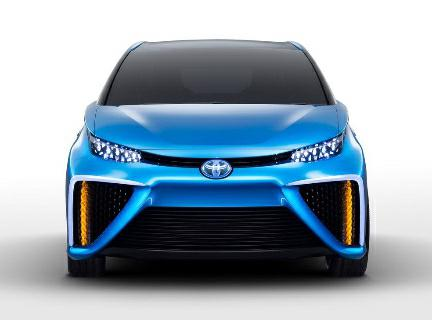丰田-FCV: (56, 30, 378, 284)
